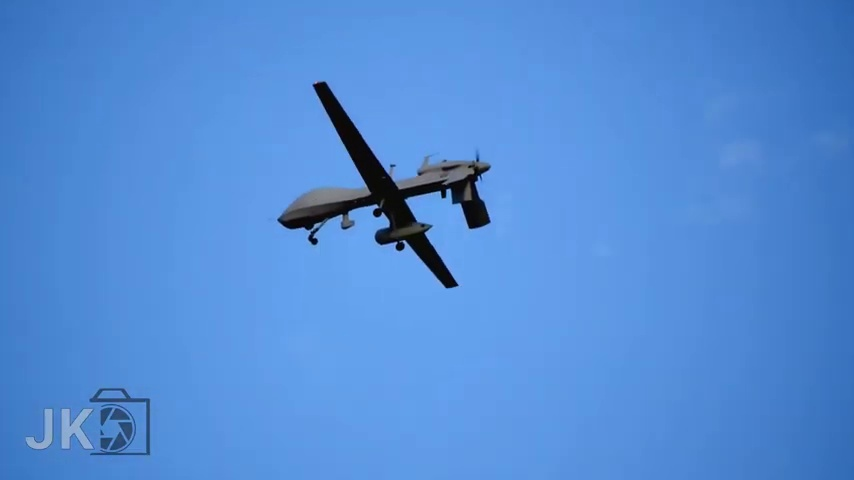military drone: (277, 80, 491, 288)
